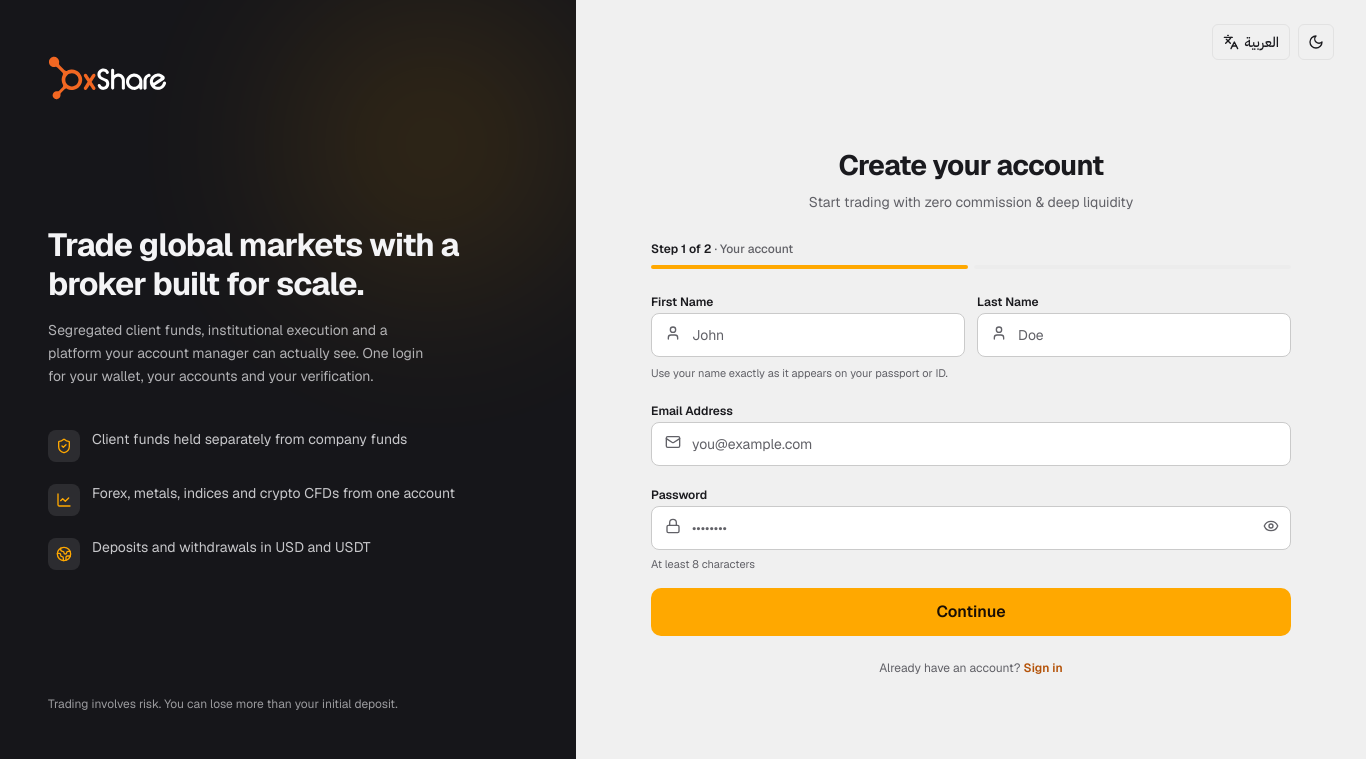
it: an address that already has an account › lets them use a different address instead
Type "Ada" into the field labelled "First Name" at (808, 335), box left=651, top=313, right=965, bottom=357
Type "Lovelace" into the field labelled "Last Name" at (1134, 335), box left=977, top=313, right=1291, bottom=357
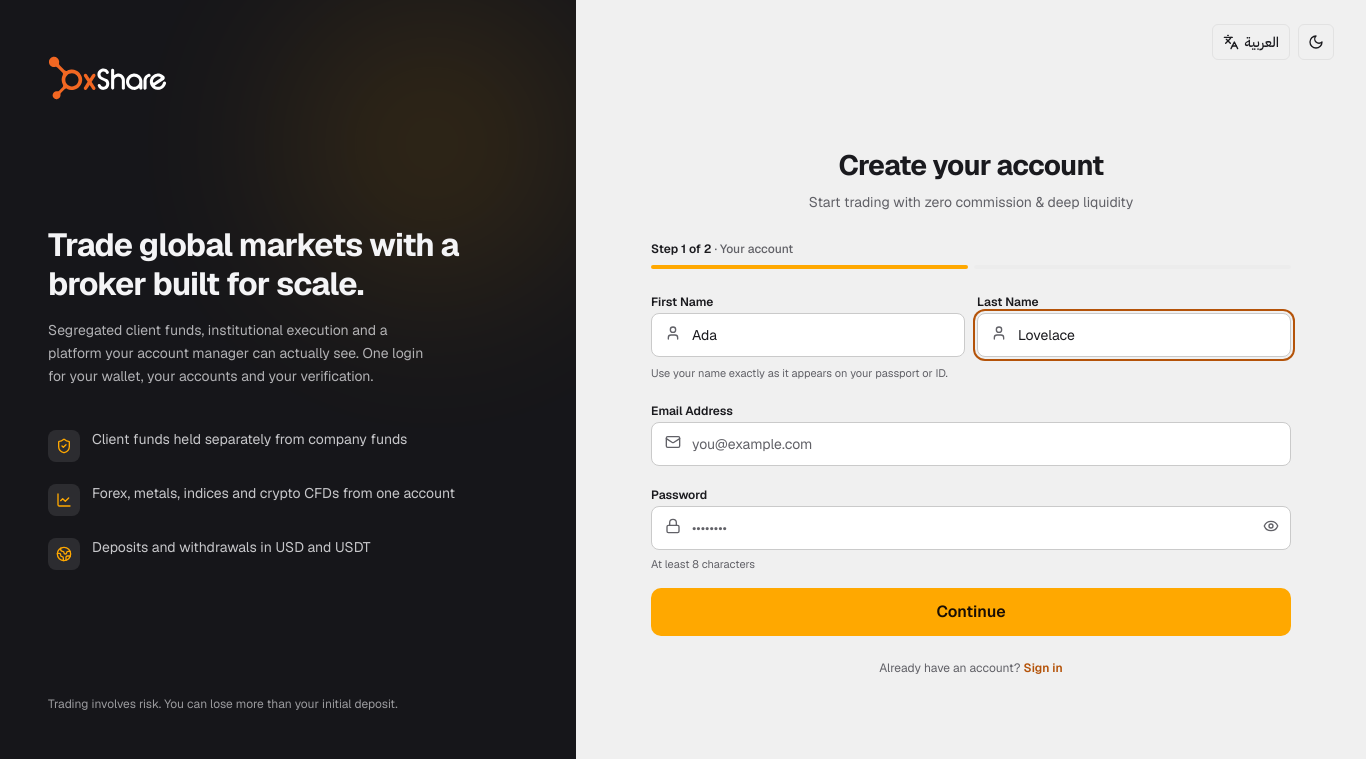
Type "ada@example.test" into the field labelled "Email Address" at (971, 444), box left=651, top=422, right=1291, bottom=466
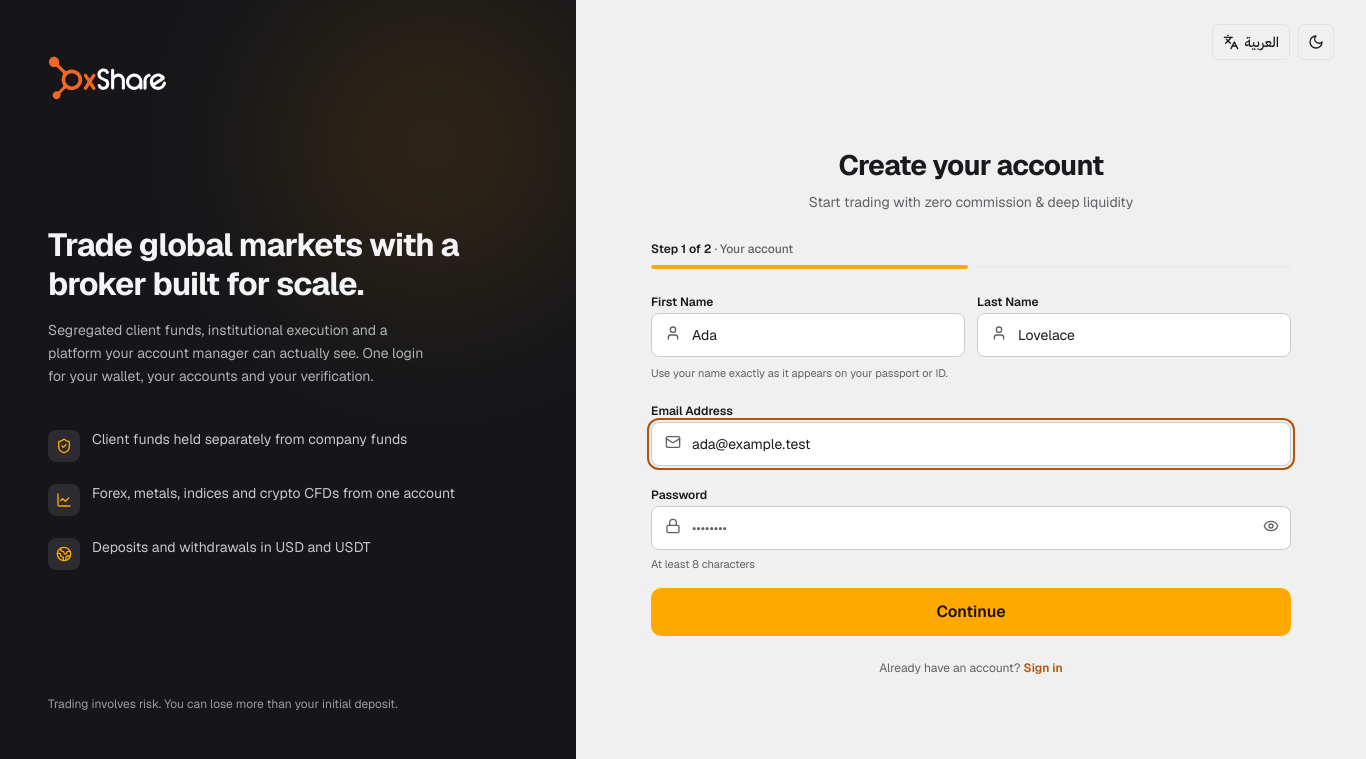
Type "A-strong-passphrase-1" into the password field labelled "Password" at (971, 528), box left=651, top=506, right=1291, bottom=550
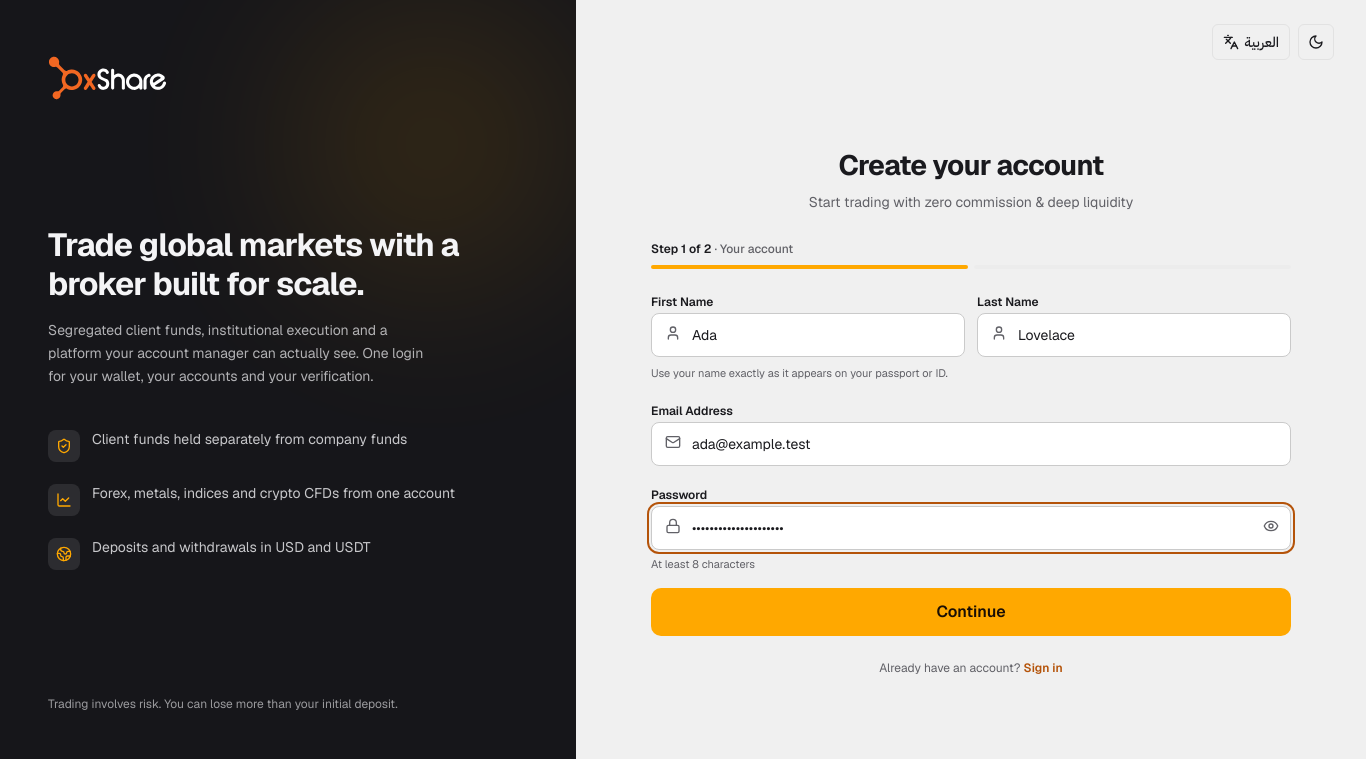
Click the button "Continue" at (971, 612), box left=651, top=588, right=1291, bottom=636
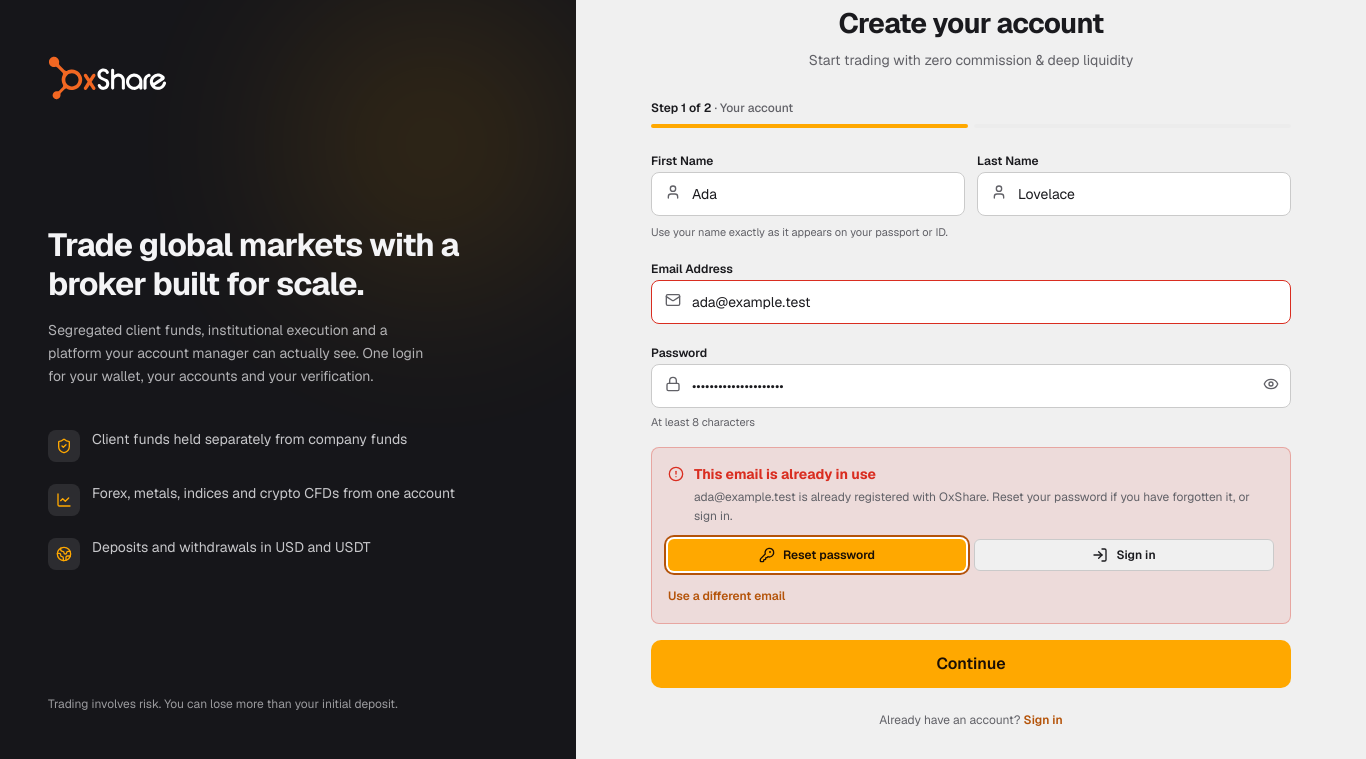
Click the button "Use a different email" at (727, 596), box left=668, top=588, right=785, bottom=604
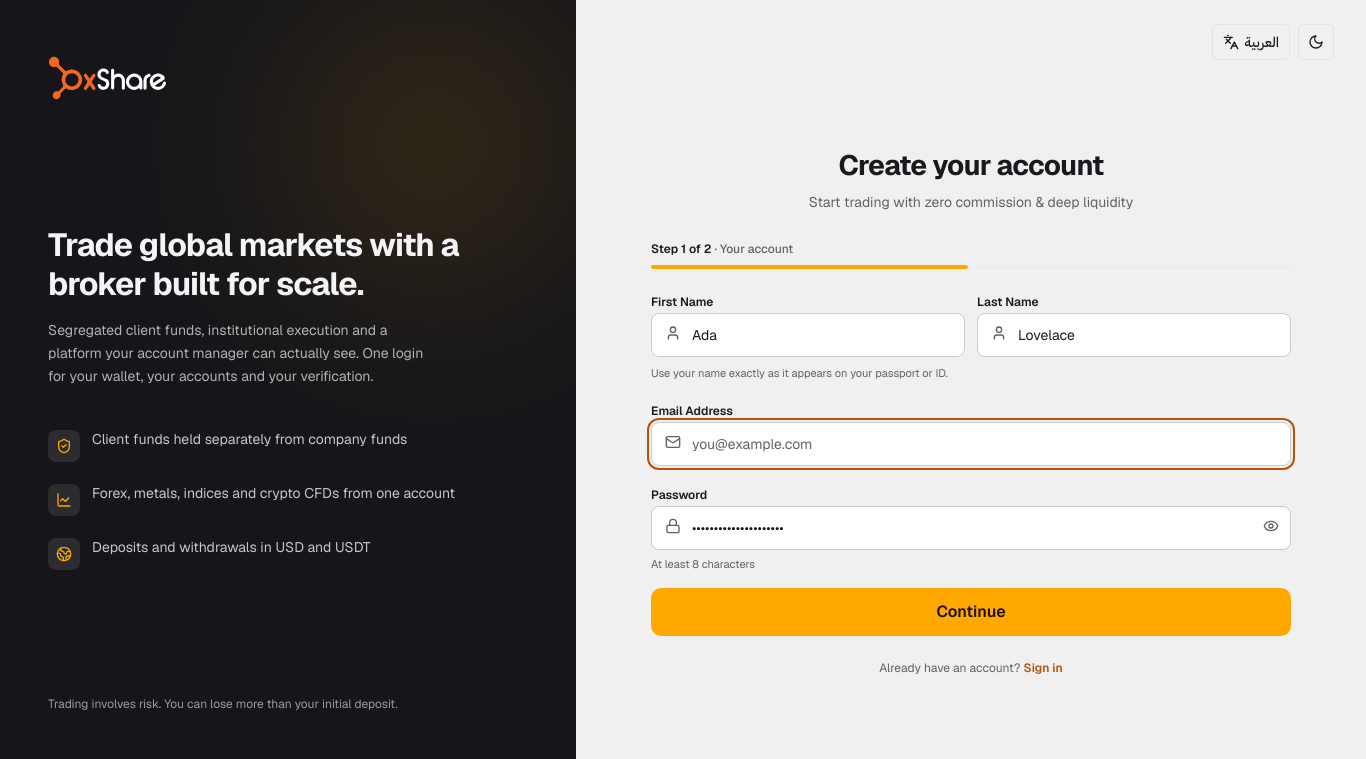
Check: the message with test id "email-taken" is gone
Check: the field labelled "Email Address" is empty
Type "ada.new@example.test" into the field labelled "Email Address" at (971, 444), box left=651, top=422, right=1291, bottom=466
Click the button "Continue" at (971, 612), box left=651, top=588, right=1291, bottom=636
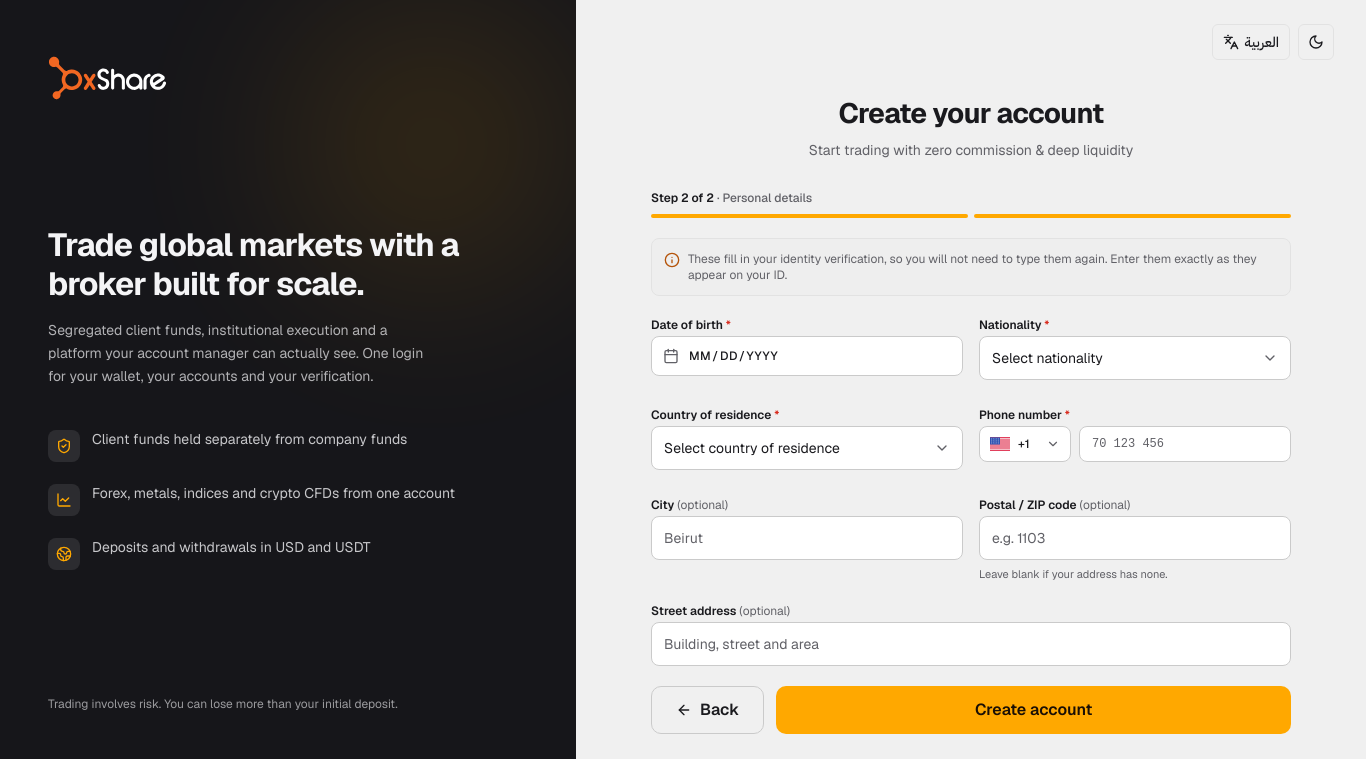
Check: the text "Step 2 of 2" is shown, box left=651, top=190, right=714, bottom=206
